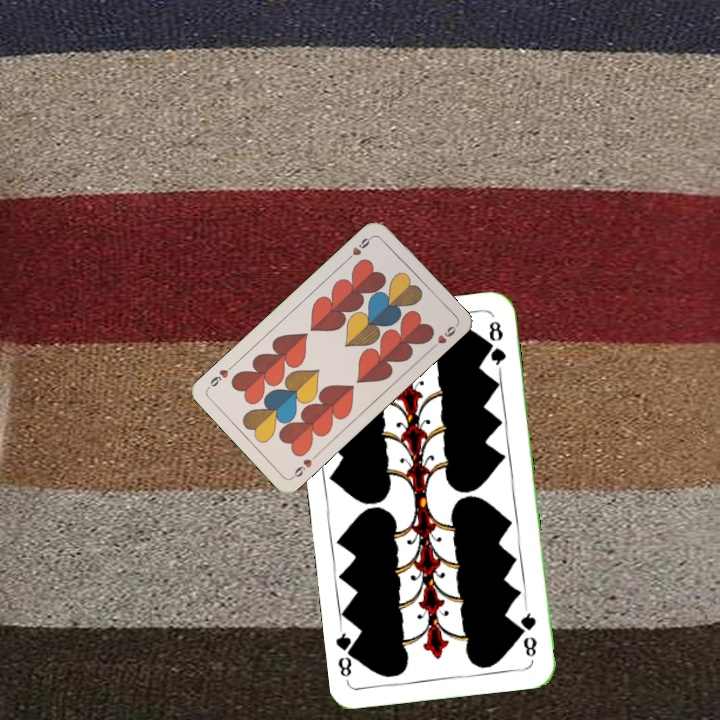G8: (516, 603, 540, 660)
H9: (287, 450, 321, 481), (342, 232, 375, 263)
